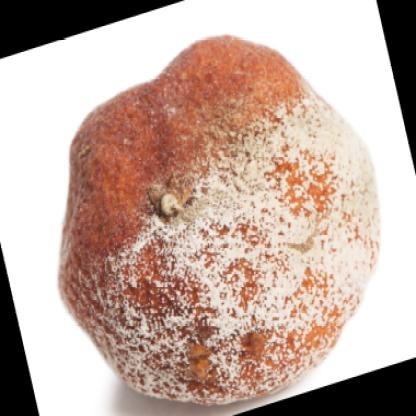rotten: (62, 38, 379, 407)
